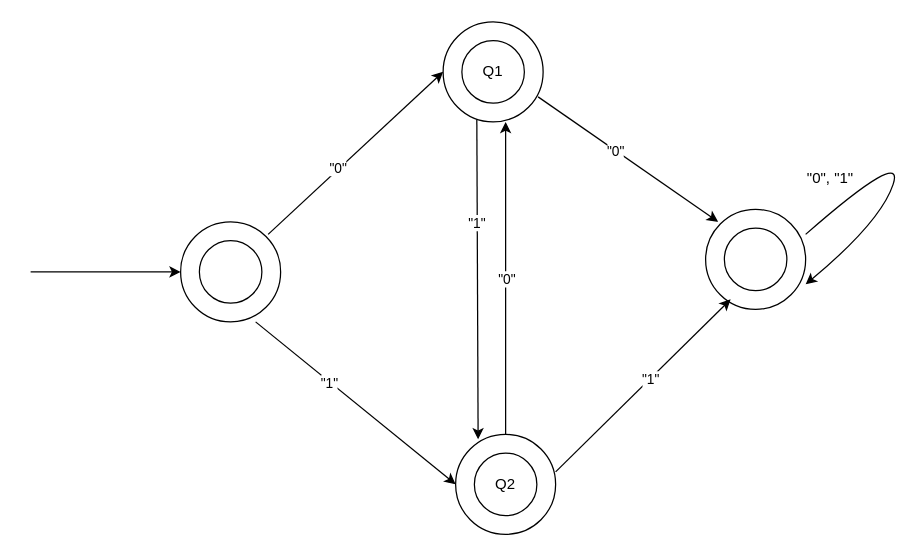
Some shapes in this 918 by 556 pixel diagram are drawn without their labels. Each missing label, with the box of its shape:
Qd: (723, 227, 787, 291)
Qe: (198, 239, 262, 303)
